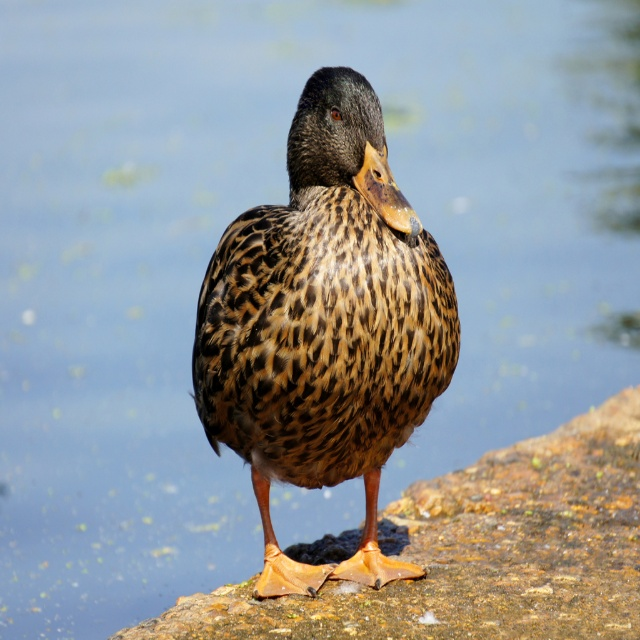Duck: (190, 85, 474, 619)
